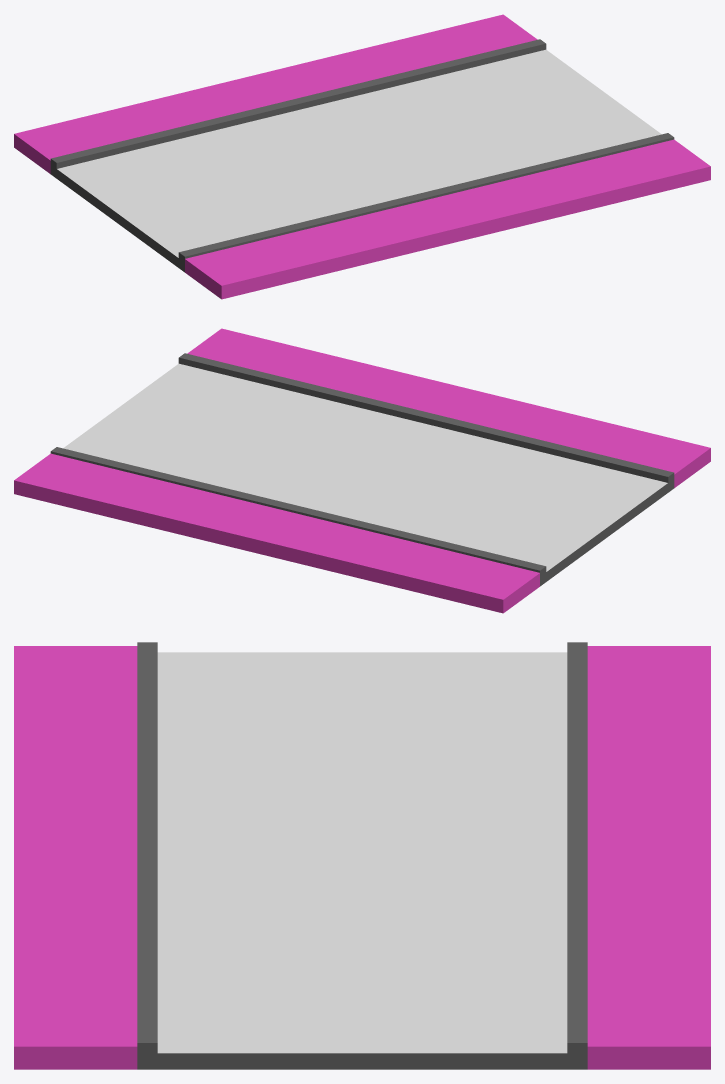
The picture shows the model from 3 angles, top to bottom: view 1: azimuth 30°, elevation 25°; view 2: azimuth 150°, elevation 25°; view 3: azimuth 270°, elevation 25°; orthographic projection. The views are drawn at different scales.
Parts seen in each view (by area): view 1: Cube.002; view 2: Cube.002; view 3: Cube.002.
Part boxes in pixels (x1,y1,x2,y2): Cube.002: [14, 14, 710, 299]; Cube.002: [14, 328, 710, 613]; Cube.002: [14, 642, 710, 1069].
Size of the model in its own units: 19862 by 616 by 14596.
